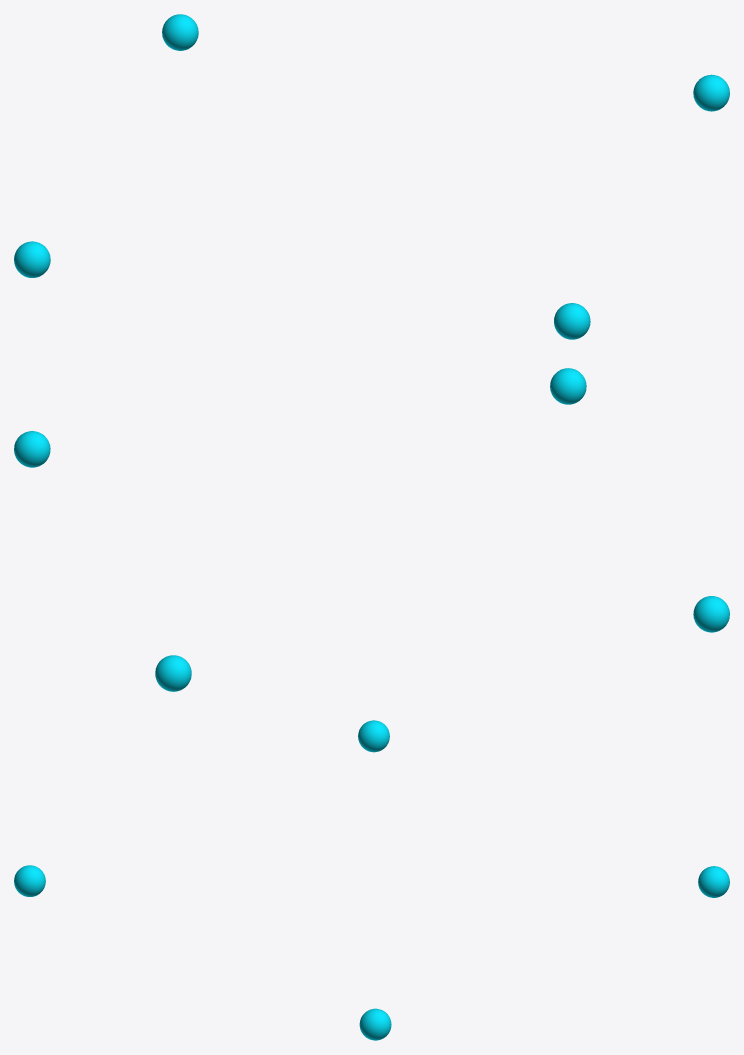
3 renders of one model, top to bottom at view 1: azimuth 30°, elevation 25°; view 2: azimuth 150°, elevation 25°; view 3: azimuth 270°, elevation 25°, orthographic. The views are drawn at different scales.
Parts seen in each view (by area): view 1: Sphere050; view 2: Sphere050; view 3: Sphere050.
Boxes of the visible parts, box(x1,y1,x2,y2) form: Sphere050: box(14, 14, 729, 339); Sphere050: box(14, 368, 729, 691); Sphere050: box(14, 720, 729, 1040).
Size of the model in its own units: 184 by 8.22 by 184.
